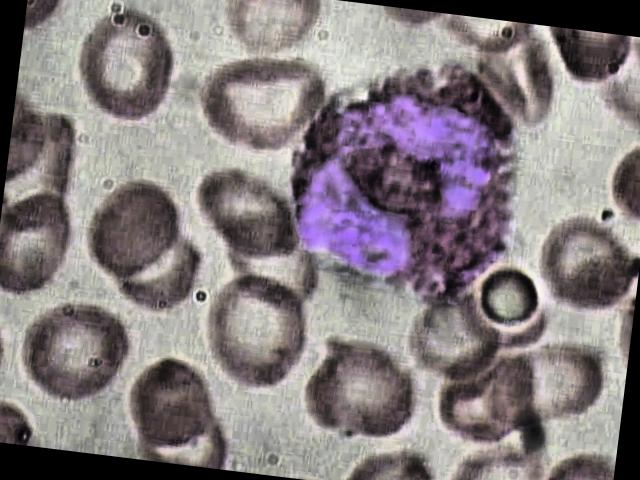RBC: (187, 48, 341, 166), (185, 262, 318, 396), (65, 0, 188, 129), (13, 288, 143, 410), (296, 329, 426, 451), (480, 331, 604, 442), (76, 174, 192, 290), (187, 164, 310, 266), (529, 212, 639, 322), (0, 182, 84, 309), (120, 352, 220, 454), (110, 226, 204, 322), (476, 260, 544, 331)
WBC: (256, 38, 540, 312)
